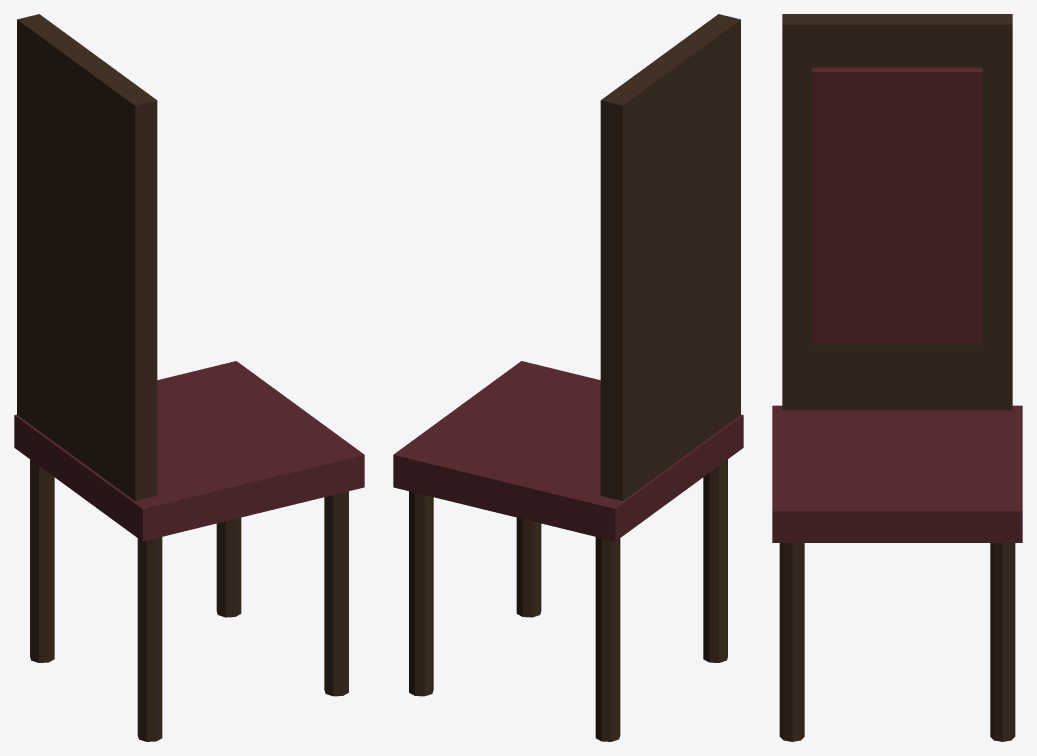
Rendered from SM_Mob_Sandalye.fbx.
The picture shows the model from 3 angles, left to right: view 1: azimuth 30°, elevation 25°; view 2: azimuth 150°, elevation 25°; view 3: azimuth 270°, elevation 25°; orthographic projection. The views are drawn at different scales.
Parts seen in each view (by area): view 1: Mob_Sandalye; view 2: Mob_Sandalye; view 3: Mob_Sandalye.
Boxes of the visible parts, x1,y1,x2,y2 form: Mob_Sandalye: [14, 14, 364, 741]; Mob_Sandalye: [393, 14, 743, 741]; Mob_Sandalye: [772, 14, 1022, 741].
Size of the model in its own units: 50.5 by 138 by 50.
